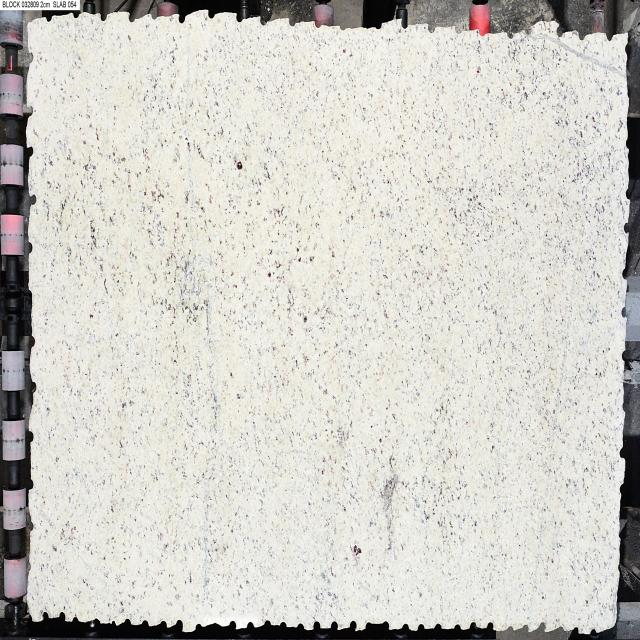chapa: (25, 9, 631, 633)
veio: (554, 22, 565, 41), (24, 142, 36, 158), (26, 50, 38, 66), (174, 618, 186, 633), (622, 219, 631, 238), (30, 377, 39, 394), (25, 102, 34, 118), (380, 618, 391, 631), (400, 16, 410, 30), (426, 22, 436, 36), (620, 347, 628, 364), (28, 193, 37, 208), (621, 266, 628, 285), (348, 619, 358, 632), (619, 304, 627, 320), (618, 444, 625, 462), (27, 478, 35, 493), (27, 429, 35, 444), (176, 12, 186, 24), (452, 622, 462, 633), (311, 620, 322, 630), (141, 619, 151, 630), (58, 611, 68, 622), (538, 620, 547, 632), (486, 619, 494, 632), (158, 620, 168, 630), (329, 620, 338, 631), (434, 620, 442, 632), (401, 622, 410, 632), (415, 622, 425, 631), (42, 612, 51, 622), (469, 620, 477, 631), (230, 620, 238, 631), (195, 622, 202, 632)
